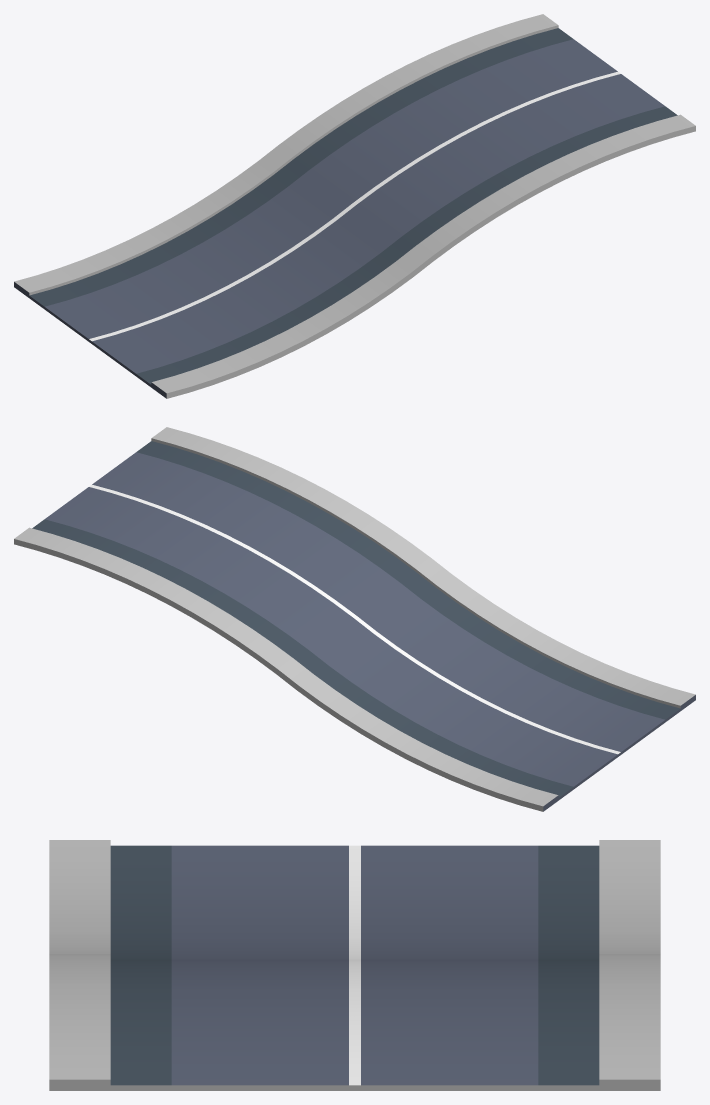
Rendered from SM_Road_Slant_Flat_Curve.fbx.
3 renders of one model, top to bottom at view 1: azimuth 30°, elevation 25°; view 2: azimuth 150°, elevation 25°; view 3: azimuth 270°, elevation 25°, orthographic. The views are drawn at different scales.
Visible parts, largest first — view 1: SM_Road_Slant_Flat_Curve; view 2: SM_Road_Slant_Flat_Curve; view 3: SM_Road_Slant_Flat_Curve.
Part boxes in pixels (x1=…): SM_Road_Slant_Flat_Curve: x1=14, y1=14, x2=695, y2=398; SM_Road_Slant_Flat_Curve: x1=14, y1=427, x2=695, y2=811; SM_Road_Slant_Flat_Curve: x1=49, y1=840, x2=660, y2=1090.
Size of the model in its own units: 2000 by 520 by 1000.
